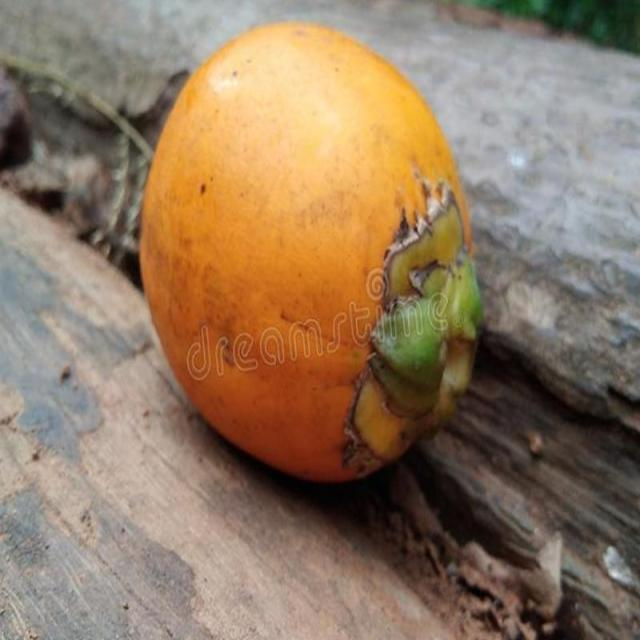good: (138, 22, 484, 489)
